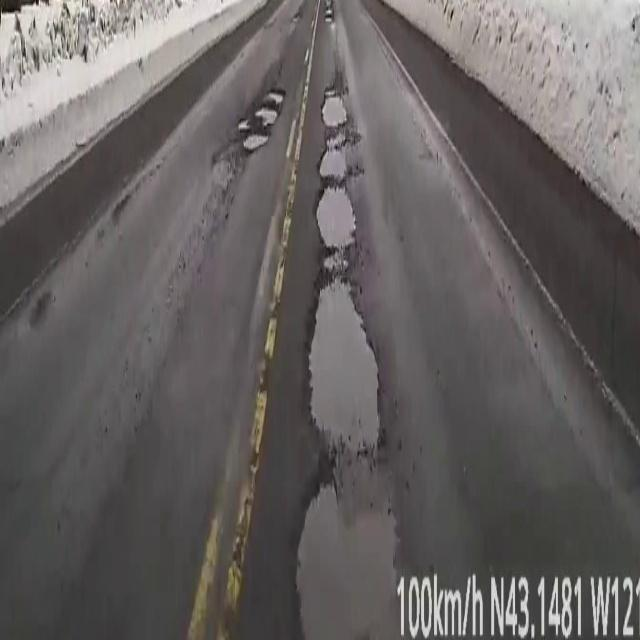pothole: (296, 86, 404, 640), (233, 85, 285, 153)
